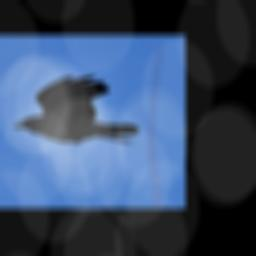Crow: (9, 71, 141, 155)
